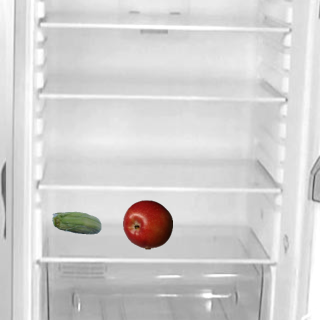Apple Braeburn: (122, 199, 172, 249)
Corn Husk: (51, 199, 101, 249)
